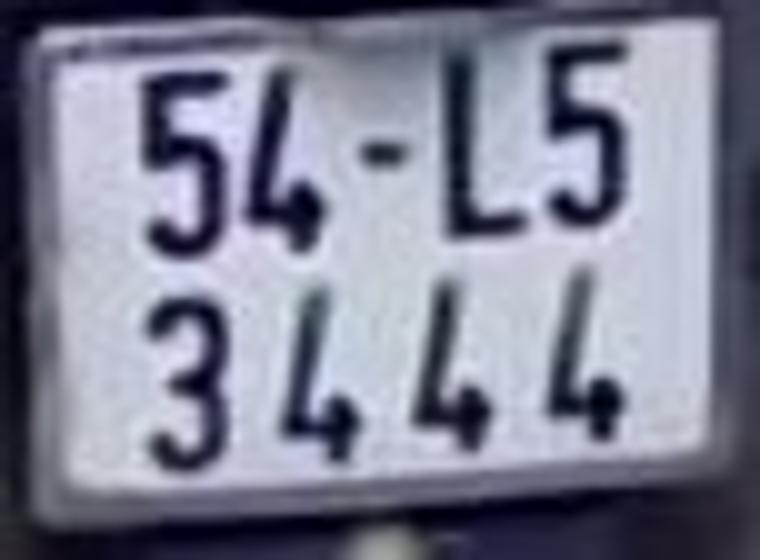-: (342, 134, 411, 171)
3: (145, 297, 229, 472)
4: (407, 283, 501, 462), (543, 265, 632, 451), (276, 280, 360, 467), (246, 73, 325, 252)
5: (134, 71, 229, 260), (541, 42, 633, 227)
L: (438, 36, 527, 239)
